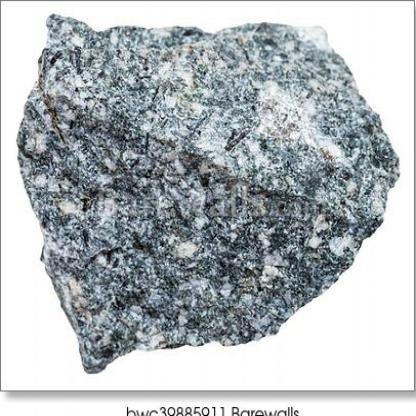Igneous_Diorite: (86, 58, 339, 291)
